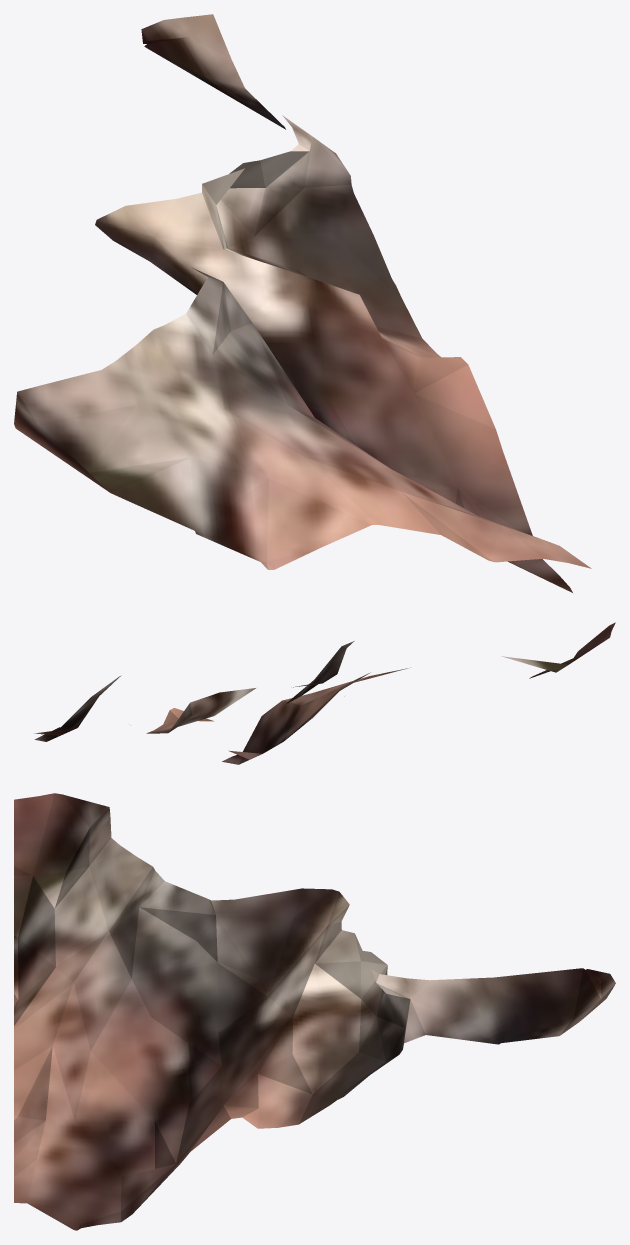
3 renders of one model, top to bottom at view 1: azimuth 30°, elevation 25°; view 2: azimuth 150°, elevation 25°; view 3: azimuth 270°, elevation 25°, orthographic. The views are drawn at different scales.
Size of the model in its own units: 0.3055 by 0.1608 by 0.3781.
1 material, 1 textured.
